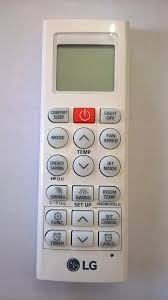remote control: (45, 14, 128, 279)
